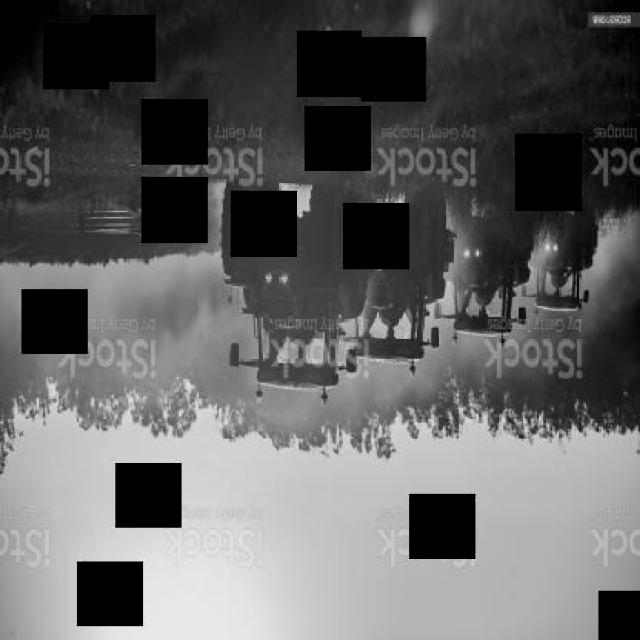Tratores - v5 YOLO V8L 2024-11-13: (194, 135, 371, 434), (366, 123, 459, 417), (454, 92, 540, 405), (531, 130, 614, 384)
